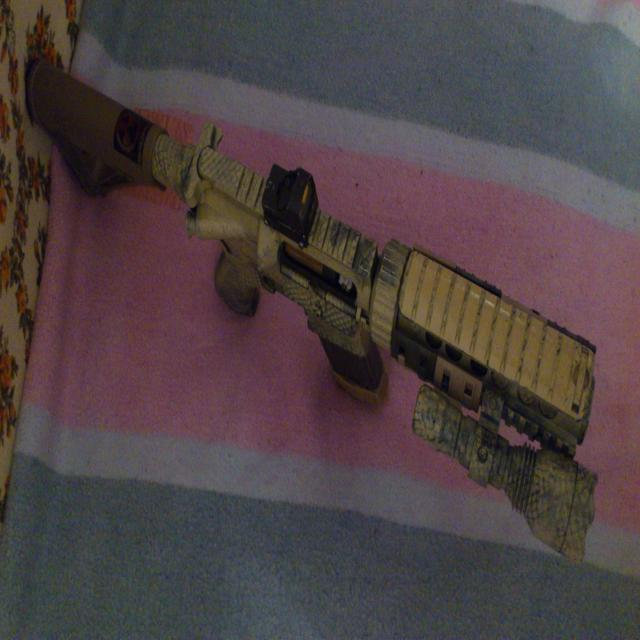firearm: (24, 55, 598, 564)
